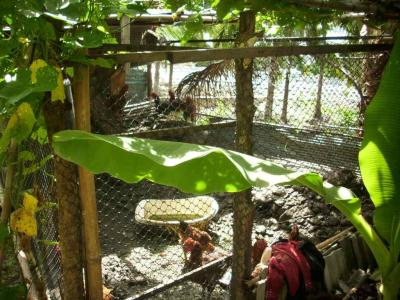bowl: (129, 192, 221, 233)
